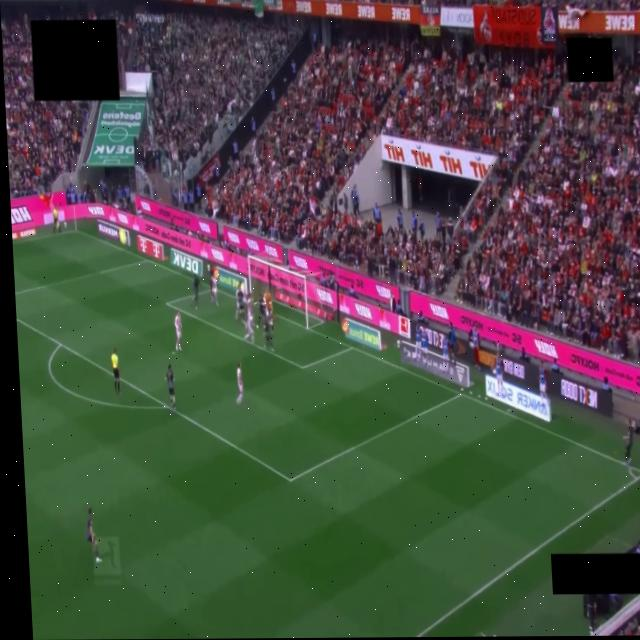player: (85, 508, 100, 563), (623, 419, 634, 466), (244, 296, 254, 343), (165, 365, 174, 410), (235, 284, 244, 320), (264, 310, 272, 348), (236, 363, 243, 404), (174, 312, 181, 351), (257, 294, 265, 327), (192, 275, 199, 309), (210, 276, 217, 306), (263, 292, 272, 313), (53, 208, 60, 233), (245, 291, 252, 314), (207, 264, 212, 293)
referee: (111, 349, 121, 396)
